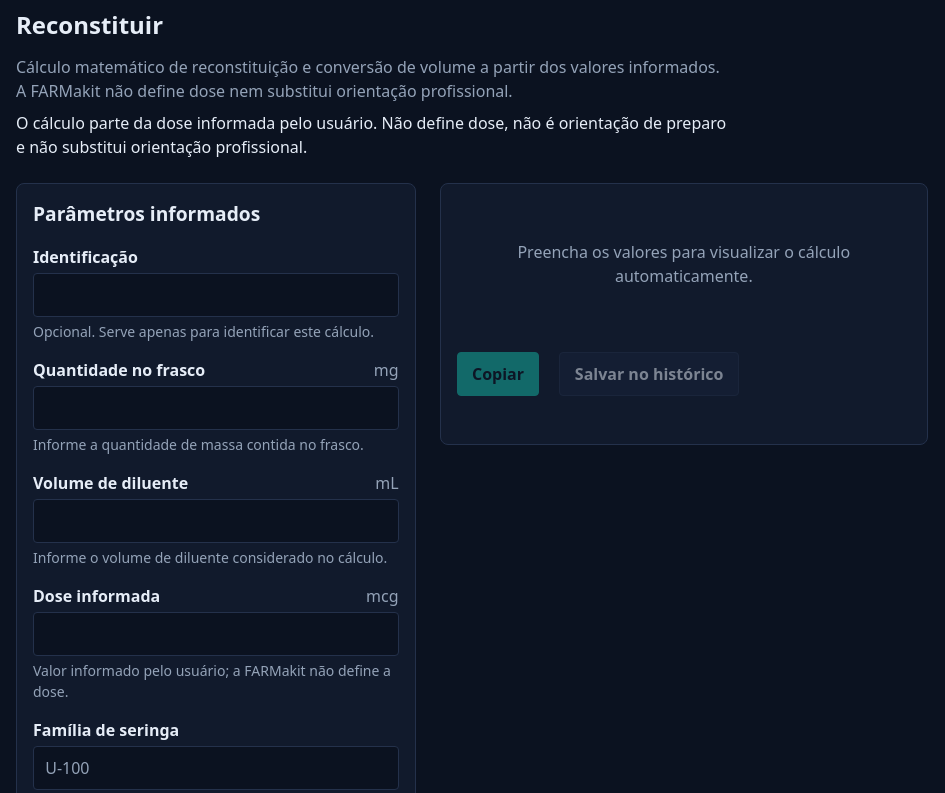
it: ReconstitutePage — E8 › calcula a âncora 5/2/250 automaticamente
Type "5" into the field labelled "Quantidade no frasco". click: (216, 408)
box: [33, 386, 399, 430]
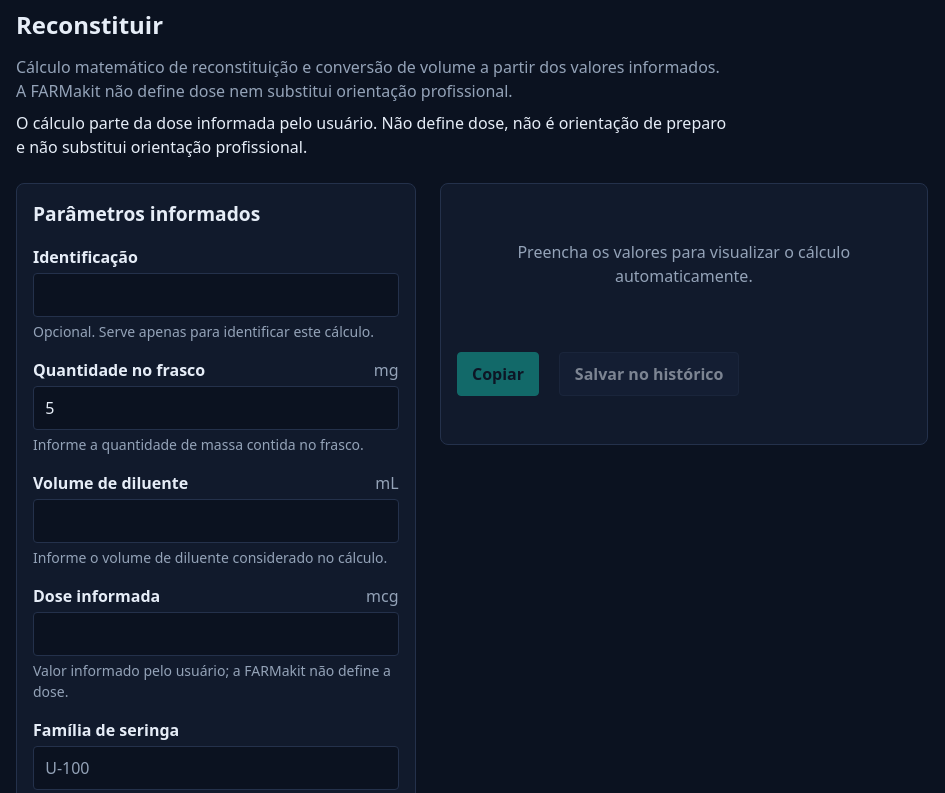
Type "2" into the field labelled "Volume de diluente". click: (216, 521)
box: [33, 499, 399, 543]
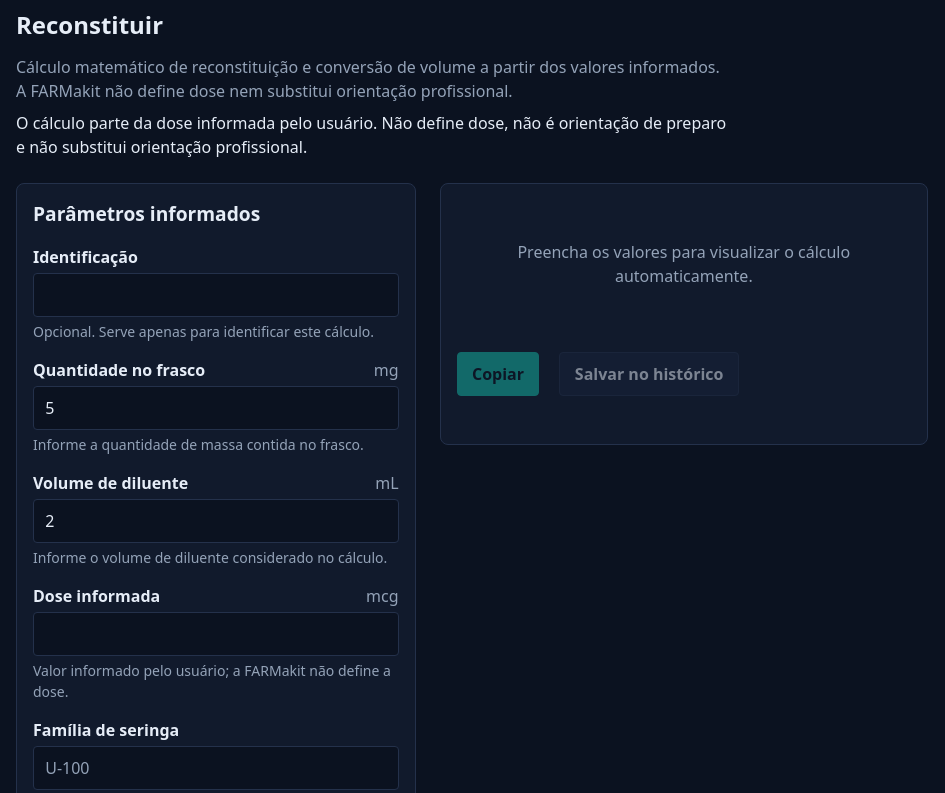
Type "250" into the field labelled "Dose informada". click: (216, 634)
box: [33, 612, 399, 656]
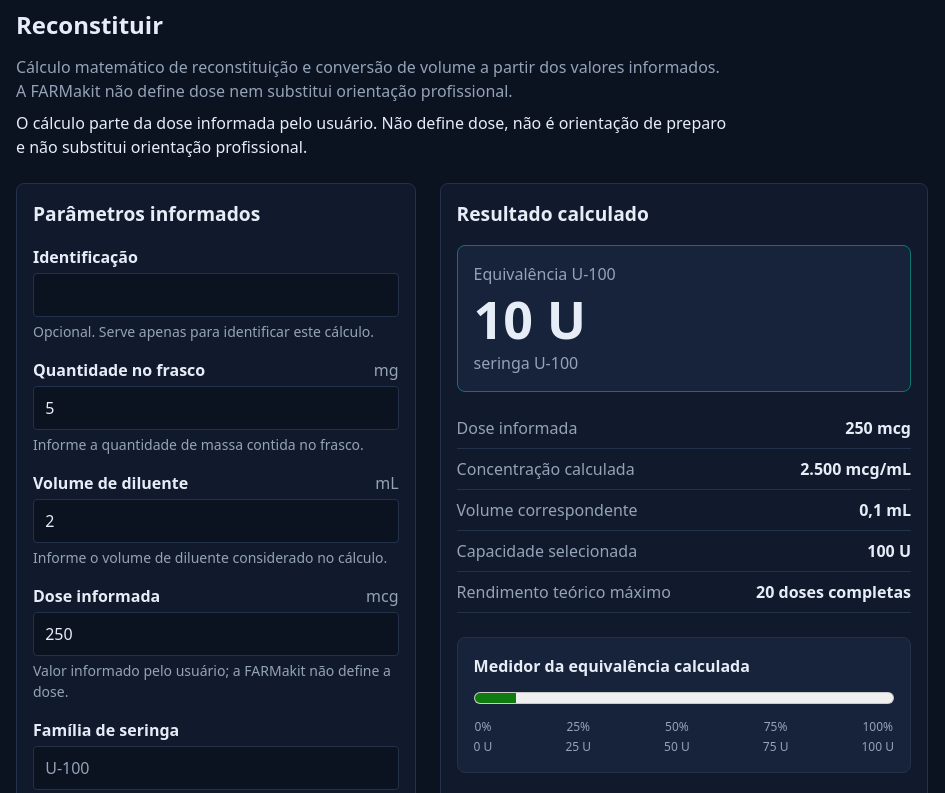
Check: the text "10 U" is shown, box [474, 283, 586, 354]
Check: the text "2.500 mcg/mL" is shown, box [800, 457, 911, 481]
Check: the text "0,1 mL" is shown, box [859, 498, 911, 522]
